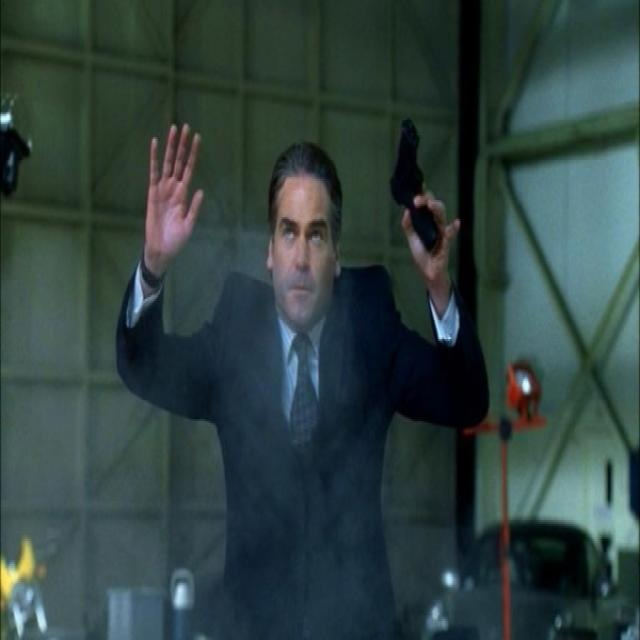weapons: (381, 97, 463, 270)
